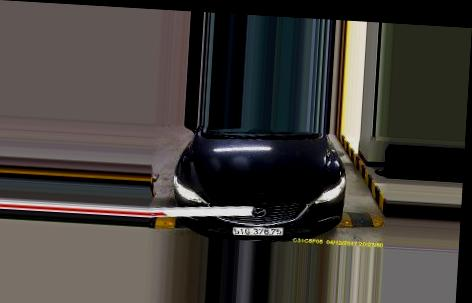License_Plate: (232, 222, 286, 239)
